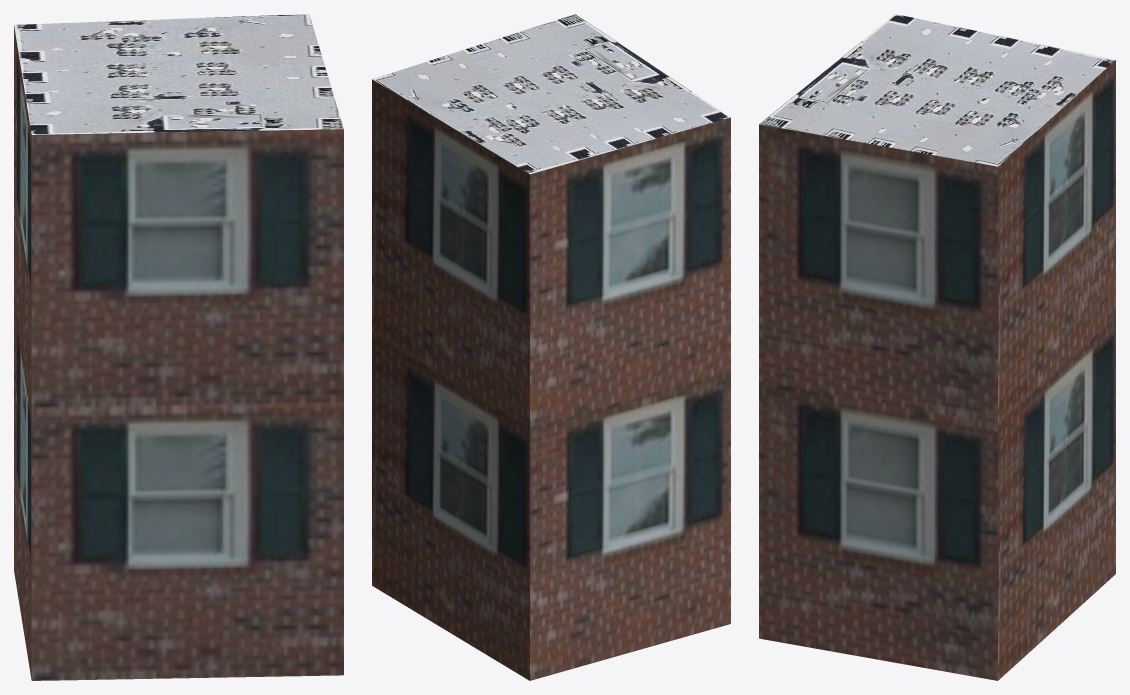
The model's file is ResTex__1215.fbx.
3 views of the same model, side by side, from view 1: azimuth 30°, elevation 25°; view 2: azimuth 150°, elevation 25°; view 3: azimuth 270°, elevation 25° (orthographic). The views are drawn at different scales.
Parts seen in each view (by area): view 1: CityEngineMaterial_14_m, CityEngineMaterial_8_m; view 2: CityEngineMaterial_14_m, CityEngineMaterial_8_m; view 3: CityEngineMaterial_14_m, CityEngineMaterial_8_m.
Part boxes in pixels (x1,y1,x2,y2): CityEngineMaterial_14_m: [14, 25, 343, 680]; CityEngineMaterial_8_m: [14, 14, 343, 134]; CityEngineMaterial_14_m: [372, 79, 730, 680]; CityEngineMaterial_8_m: [372, 14, 730, 174]; CityEngineMaterial_14_m: [759, 60, 1115, 680]; CityEngineMaterial_8_m: [759, 14, 1115, 166].
Size of the model in its own units: 3.82 by 6 by 3.77.
Materials: 2 (2 with a texture image).
